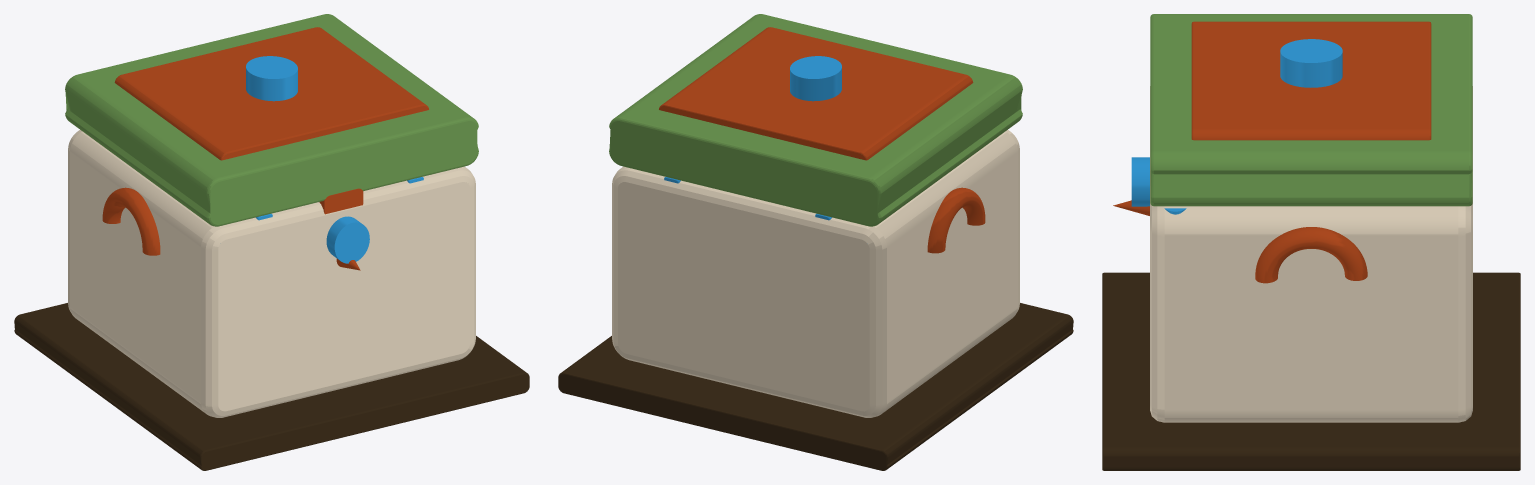
Rendered from 1194_唐图鉴_唐三彩.glb.
3 views of the same model, side by side, from view 1: azimuth 30°, elevation 25°; view 2: azimuth 150°, elevation 25°; view 3: azimuth 270°, elevation 25° (orthographic). The views are drawn at different scales.
Visible parts, largest first — view 1: card_1194; view 2: card_1194; view 3: card_1194.
Part boxes in pixels (<box>): card_1194: <box>14,14,529,470</box>; card_1194: <box>558,14,1073,470</box>; card_1194: <box>1102,14,1520,470</box>.
Bounding box in the file's own units: 1.16 × 1 × 1.14.
